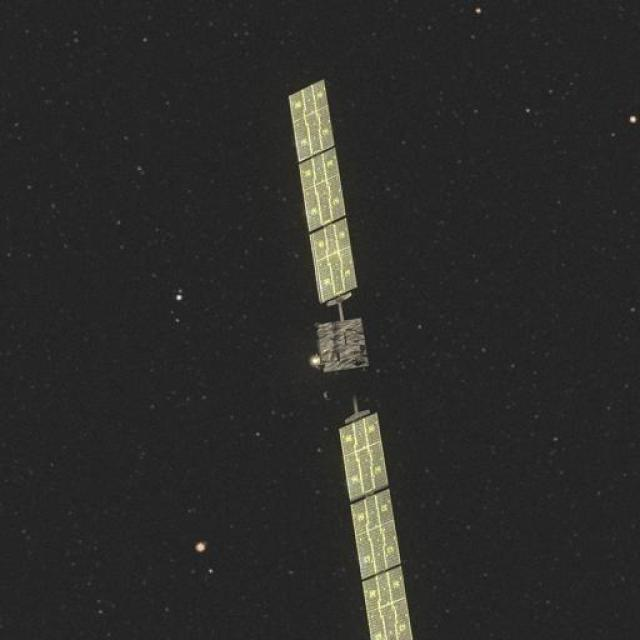smart_1: (261, 76, 419, 640)
